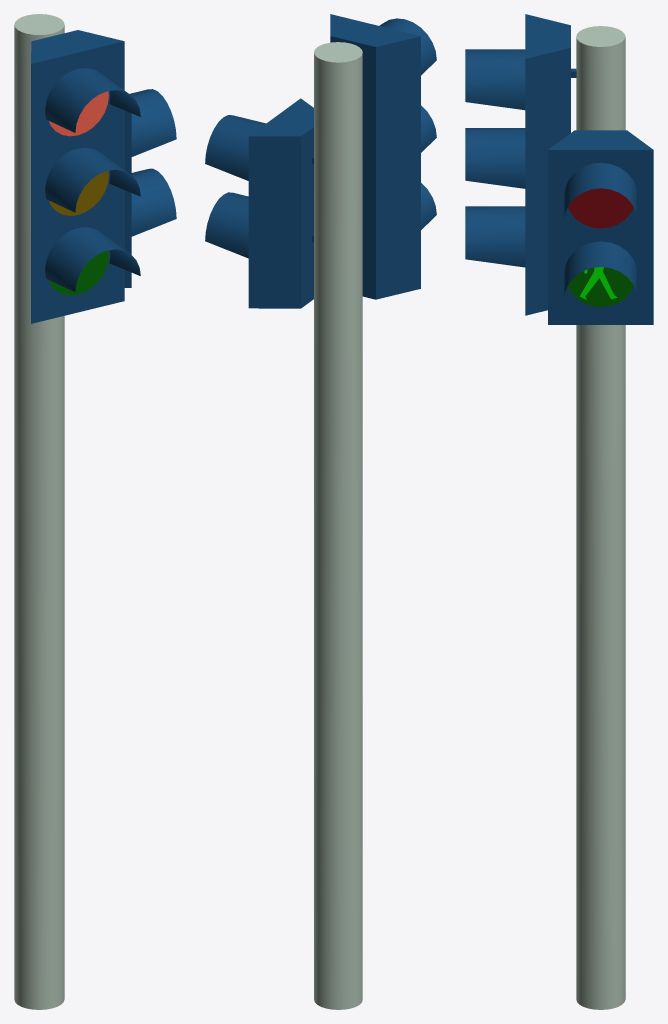
The model's file is traffic_light_traffic_light_793e07.glb.
The picture shows the model from 3 angles, left to right: view 1: azimuth 30°, elevation 25°; view 2: azimuth 150°, elevation 25°; view 3: azimuth 270°, elevation 25°; orthographic projection. The views are drawn at different scales.
Parts seen in each view (by area): view 1: Object_10, Object_8, Object_9, Object_2, Object_3, Object_7; view 2: Object_10, Object_8, Object_9; view 3: Object_10, Object_8, Object_9, Object_6, Object_4, Object_5.
Boxes of the visible parts, x1,y1,x2,y2 form: Object_10: (14,14,64,1009); Object_8: (31,30,140,323); Object_9: (124,89,176,287); Object_2: (48,250,108,295); Object_3: (48,171,108,215); Object_7: (49,91,108,136); Object_10: (314,42,362,1009); Object_8: (330,14,436,299); Object_9: (205,98,313,308); Object_10: (576,26,625,1009); Object_8: (465,14,576,315); Object_9: (548,130,653,324); Object_6: (568,188,633,228); Object_4: (568,267,633,307); Object_5: (580,267,617,299).
Size of the model in its own units: 53.2 by 300 by 53.2.
